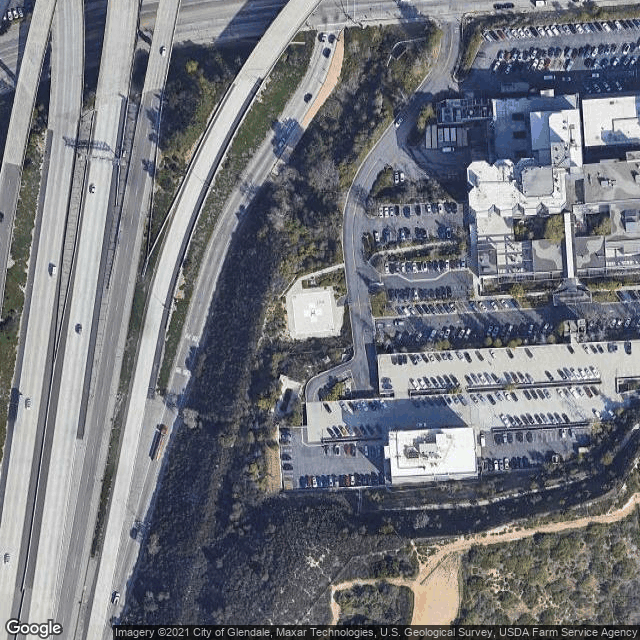Helipad: (300, 298, 328, 326)
